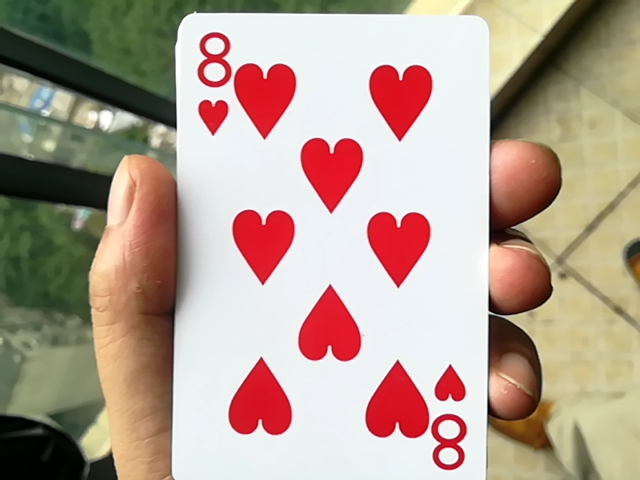hx 8: (147, 2, 489, 475)
